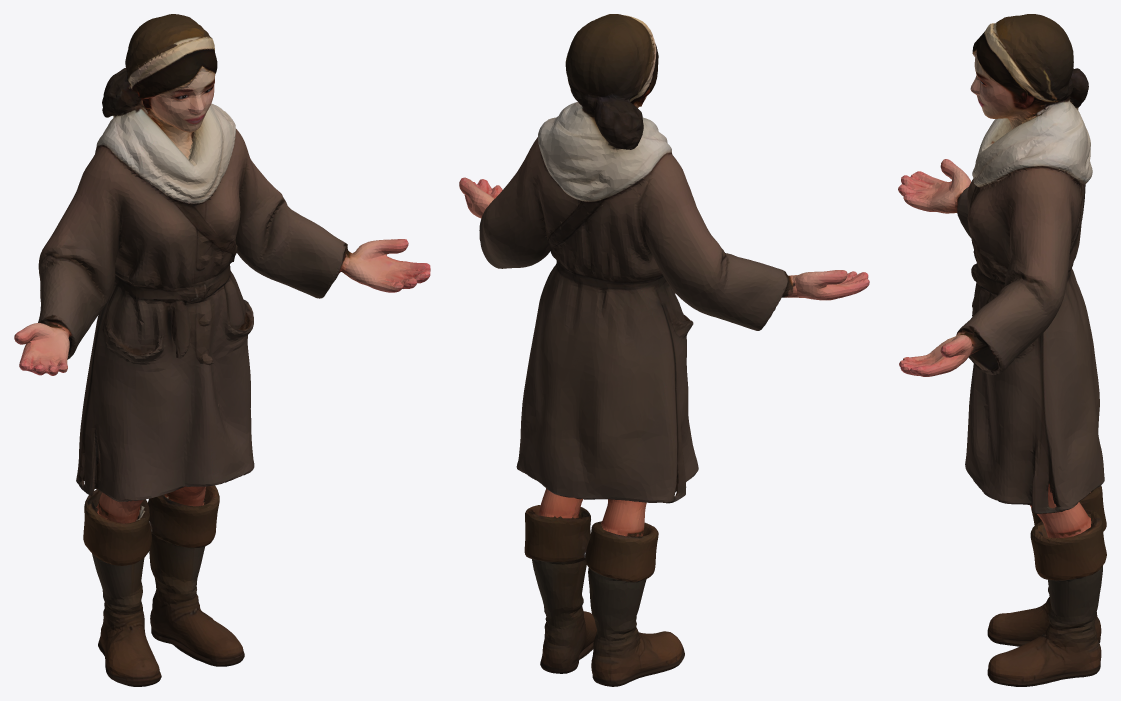
Rendered from villager_fisherwoman.glb.
3 views of the same model, side by side, from view 1: azimuth 30°, elevation 25°; view 2: azimuth 150°, elevation 25°; view 3: azimuth 270°, elevation 25° (orthographic).
Visible parts, largest first — view 1: textured_mesh.obj; view 2: textured_mesh.obj; view 3: textured_mesh.obj.
Part boxes in pixels (x1,y1,x2,y2): textured_mesh.obj: [14, 14, 430, 686]; textured_mesh.obj: [459, 14, 869, 686]; textured_mesh.obj: [898, 14, 1106, 686].
Bounding box in the file's own units: 1.32 × 1.99 × 0.5888.
Materials: 1 (1 with a texture image).
